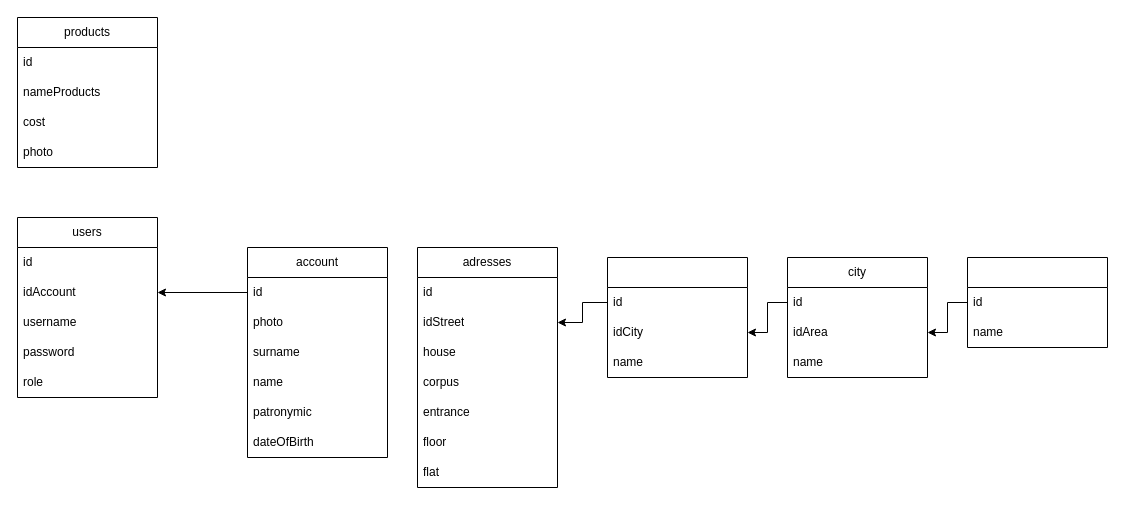
The diagram is 1125 pixels wide and 505 high, and some of its shapes have lost their labels. Here are the shapes that lost their labels. From the top down, the box of each, then its label:
(606, 256, 748, 378): street
(966, 256, 1108, 348): area
